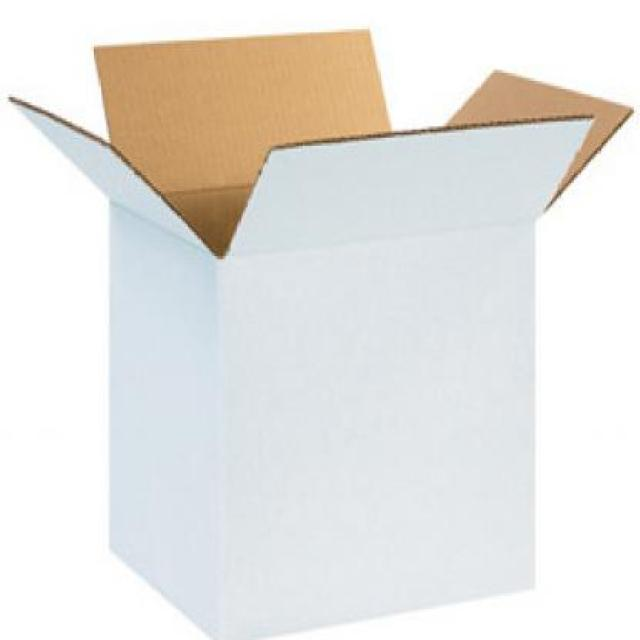box: (0, 14, 638, 640)
